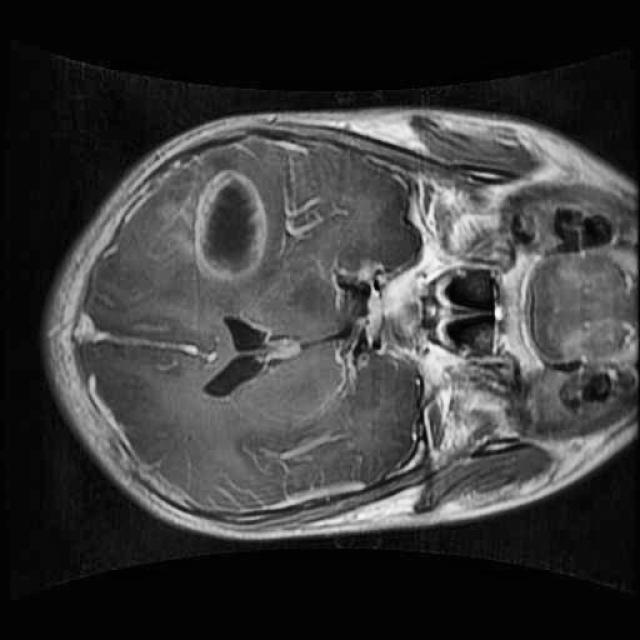Tumor: (182, 155, 276, 290)
